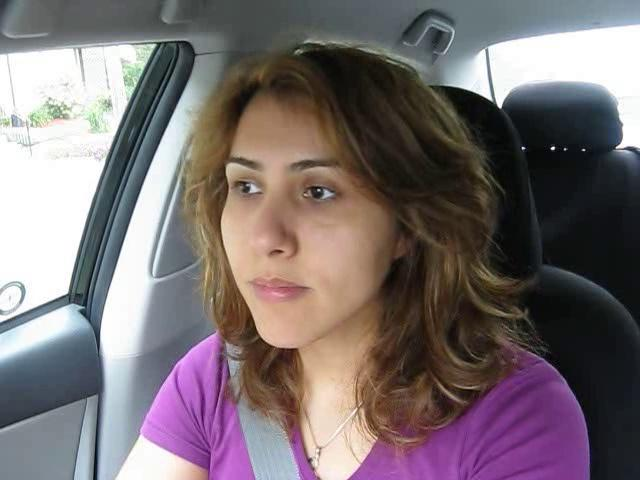no_yawn: (226, 263, 327, 317)
open_eyeL: (223, 167, 272, 205)
open_eyeR: (290, 171, 360, 212)
